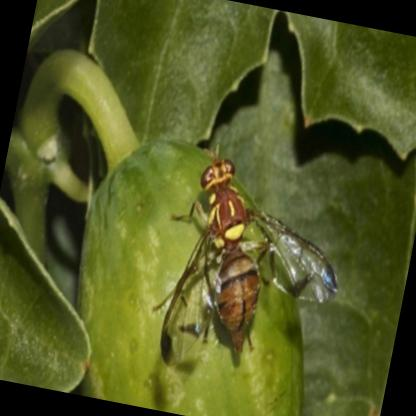fruit fly: (158, 156, 338, 366)
